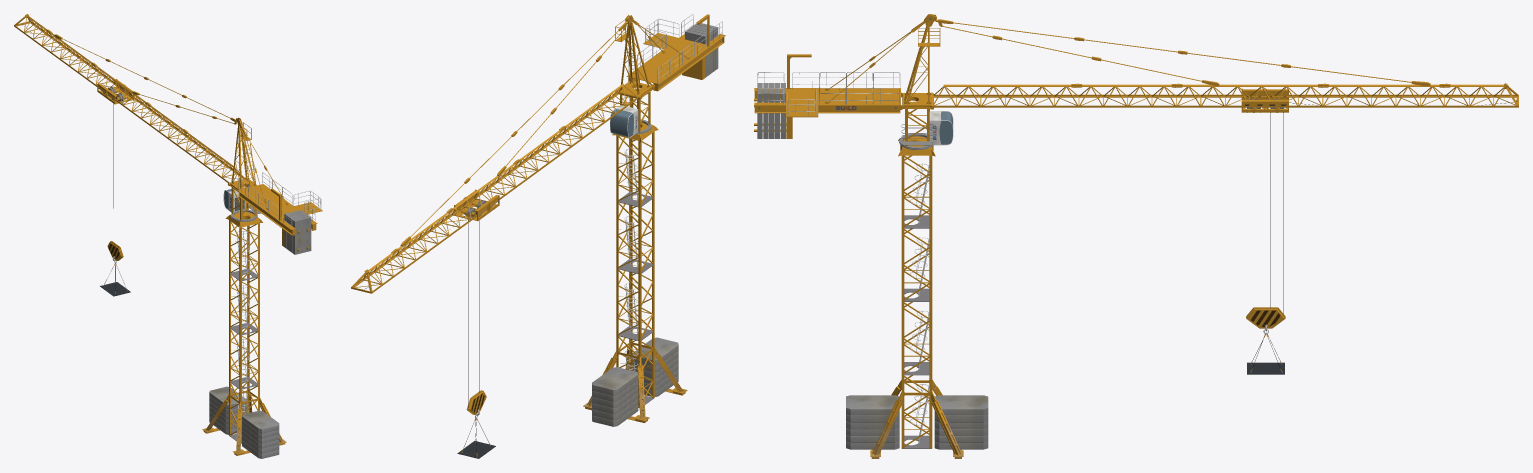
Rendered from crane.glb.
3 renders of one model, left to right at view 1: azimuth 30°, elevation 25°; view 2: azimuth 150°, elevation 25°; view 3: azimuth 270°, elevation 25°, orthographic. The views are drawn at different scales.
Parts seen in each view (by area): view 1: plateforme-haut_plateforme-haut_0, Box420_beton_0, corps-haut-1_corps-haut-1_0, L-Ext044_corps-bord-metal_0, corps-haut-3_corps-haut-3_0, Box155_beton-haut_0, poulie_poulie_0, Box407_pied-barre_0, plateforme_plateforme_0, attaches-haut_attaches-haut_0, cabine_cabine_0, Cylinder222_poulis-support_0; view 2: plateforme-haut_plateforme-haut_0, Box420_beton_0, corps-haut-1_corps-haut-1_0, L-Ext044_corps-bord-metal_0, corps-haut-3_corps-haut-3_0, poulie_poulie_0, Box155_beton-haut_0, plateforme_plateforme_0, Box407_pied-barre_0, cabine_cabine_0, attaches-haut_attaches-haut_0, Cylinder222_poulis-support_0; view 3: plateforme-haut_plateforme-haut_0, corps-haut-1_corps-haut-1_0, Box420_beton_0, corps-haut-3_corps-haut-3_0, L-Ext044_corps-bord-metal_0, poulie_poulie_0, Box155_beton-haut_0, plateforme_plateforme_0, Box407_pied-barre_0, attaches-haut_attaches-haut_0, cabine_cabine_0.
Part boxes in pixels (x1,y1,x2,y2): plateforme-haut_plateforme-haut_0: (62, 38, 322, 443); Box420_beton_0: (209, 386, 279, 458); corps-haut-1_corps-haut-1_0: (14, 15, 245, 182); L-Ext044_corps-bord-metal_0: (229, 220, 259, 443); corps-haut-3_corps-haut-3_0: (14, 16, 174, 131); Box155_beton-haut_0: (284, 210, 311, 254); poulie_poulie_0: (22, 23, 134, 208); Box407_pied-barre_0: (205, 388, 283, 452); plateforme_plateforme_0: (238, 192, 316, 251); attaches-haut_attaches-haut_0: (25, 14, 267, 172); cabine_cabine_0: (223, 189, 245, 212); Cylinder222_poulis-support_0: (100, 262, 130, 296); plateforme-haut_plateforme-haut_0: (410, 14, 725, 404); Box420_beton_0: (592, 337, 678, 426); corps-haut-1_corps-haut-1_0: (354, 83, 637, 293); L-Ext044_corps-bord-metal_0: (616, 131, 654, 407); corps-haut-3_corps-haut-3_0: (351, 141, 549, 293); poulie_poulie_0: (362, 189, 499, 407); Box155_beton-haut_0: (685, 23, 718, 77); plateforme_plateforme_0: (628, 37, 724, 91); Box407_pied-barre_0: (587, 340, 683, 419); cabine_cabine_0: (610, 105, 638, 137); attaches-haut_attaches-haut_0: (364, 14, 664, 274); Cylinder222_poulis-support_0: (457, 417, 495, 458); plateforme-haut_plateforme-haut_0: (754, 21, 1411, 448); corps-haut-1_corps-haut-1_0: (933, 84, 1518, 107); Box420_beton_0: (846, 395, 988, 449); corps-haut-3_corps-haut-3_0: (1116, 84, 1518, 107); L-Ext044_corps-bord-metal_0: (901, 155, 932, 448); poulie_poulie_0: (1241, 88, 1517, 313); Box155_beton-haut_0: (757, 83, 785, 138); plateforme_plateforme_0: (754, 91, 900, 138); Box407_pied-barre_0: (872, 380, 961, 455); attaches-haut_attaches-haut_0: (869, 14, 1508, 88); cabine_cabine_0: (929, 111, 953, 145).
Size of the model in its own units: 225 by 1230 by 1990.
14 materials, 14 textured.
